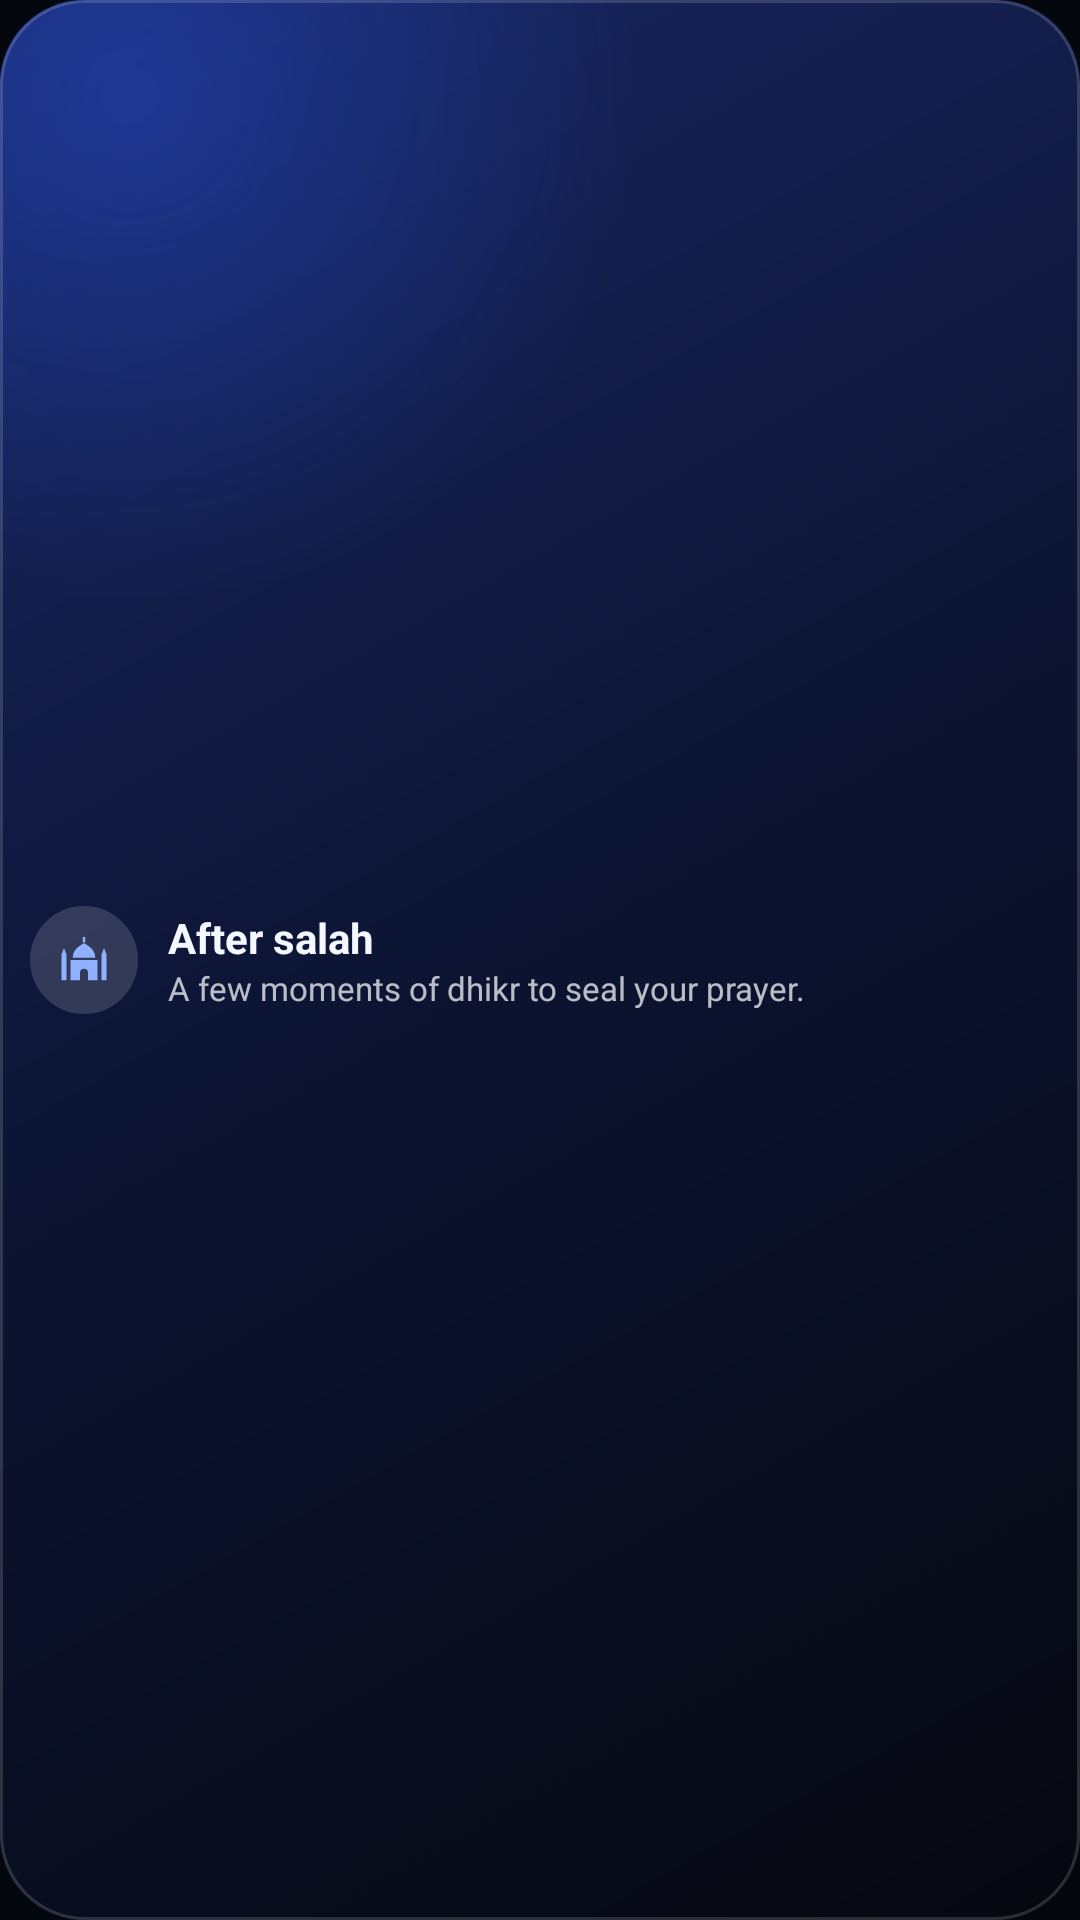

Screen size 1080w x 1920h. Icon name, then its box in pixels as (x1,y1,x2,y2):
widget salah: (61,937,107,981)
